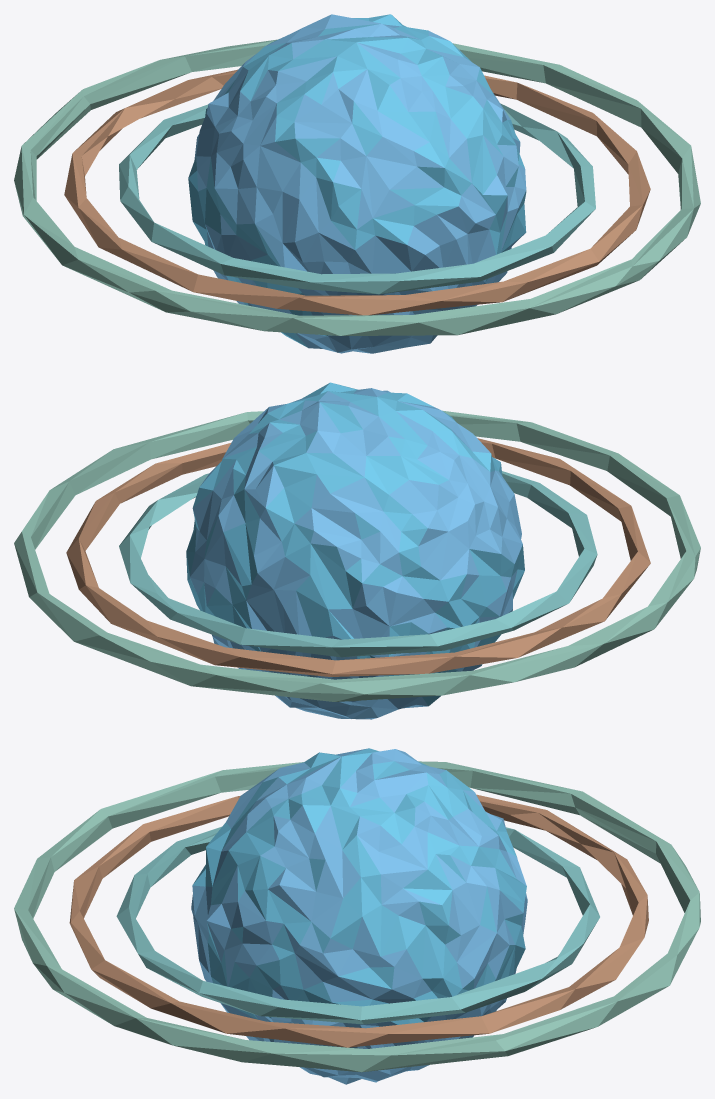
Rendered from Uranus.fbx.
3 renders of one model, top to bottom at view 1: azimuth 30°, elevation 25°; view 2: azimuth 150°, elevation 25°; view 3: azimuth 270°, elevation 25°, orthographic.
Visible parts, largest first — view 1: Uranus; view 2: Uranus; view 3: Uranus.
Boxes of the visible parts, box(x1,y1,x2,y2) form: Uranus: box(14, 14, 700, 353); Uranus: box(14, 382, 700, 719); Uranus: box(14, 748, 700, 1084).
Bounding box in the file's own units: 72.79 × 35.97 × 73.15.
Materials: 1 (1 with a texture image).
